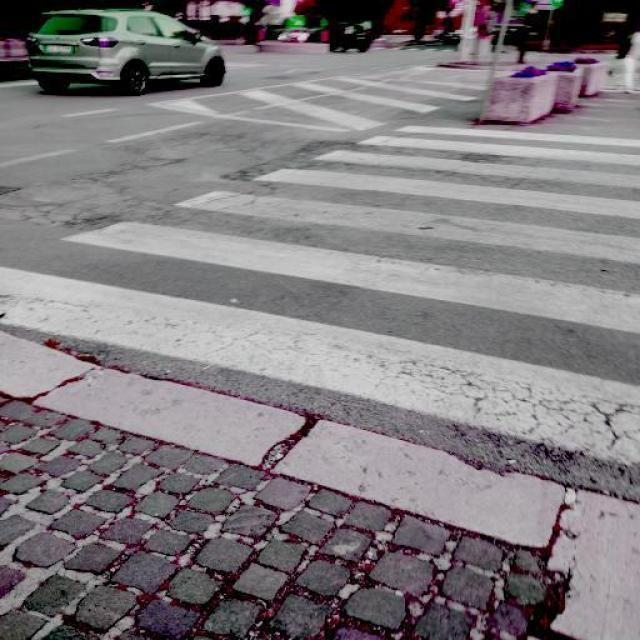crosswalk: (5, 121, 640, 475)
